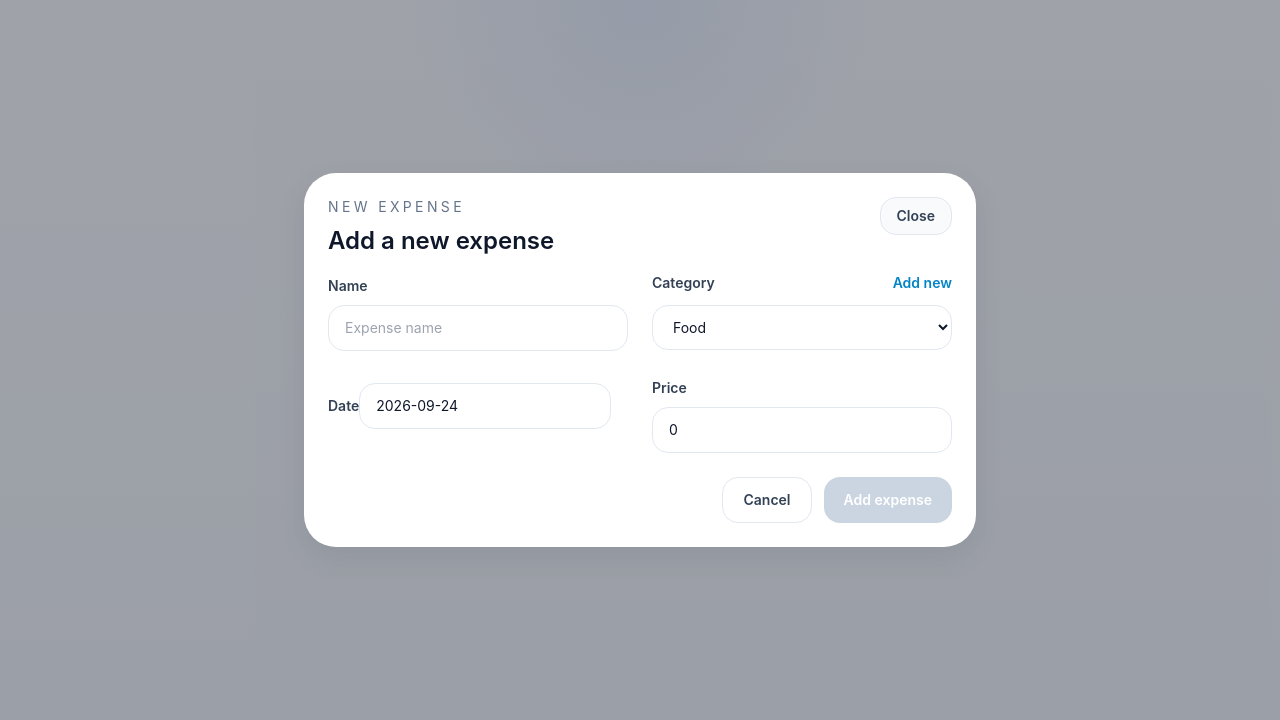
Scenario: ExpenseModal › category management › should switch to text input for new category
Click the button "Add new" at (922,283), box [893,273,952,293]
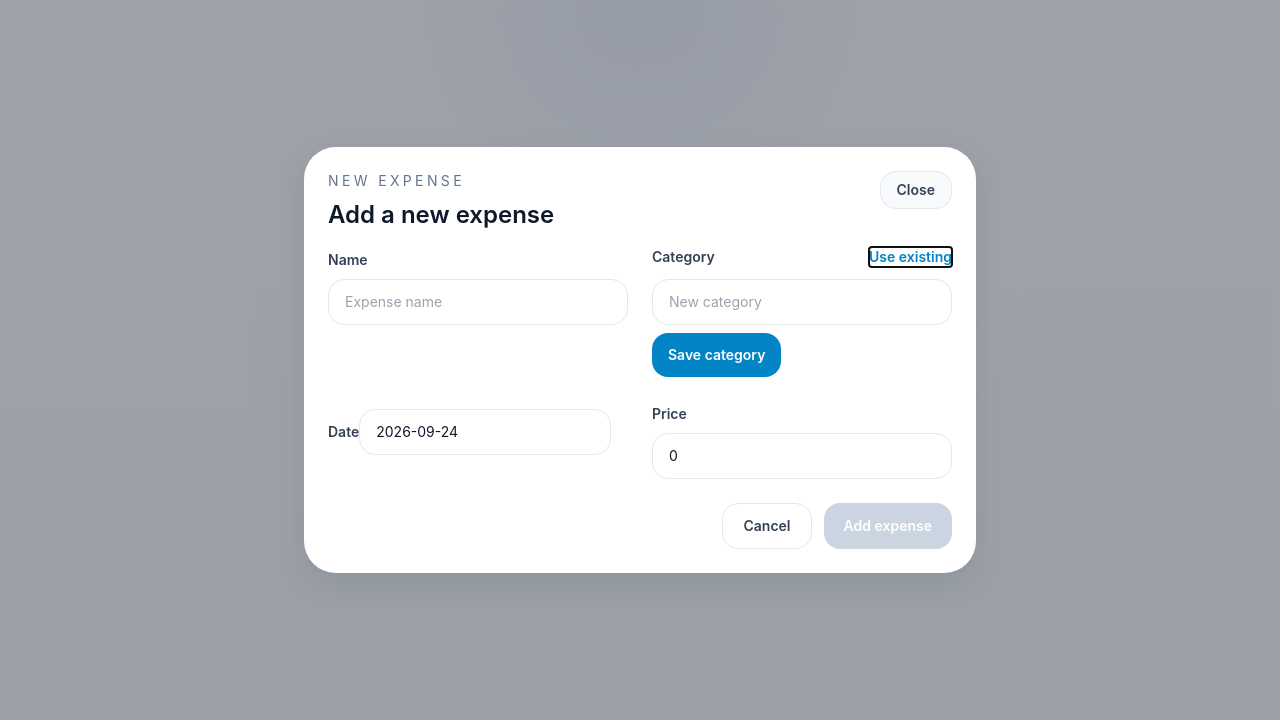
Expected: the field with placeholder "New category" is shown, [652,279,952,325]
Expected: the button "Save category" is shown, [652,333,781,377]
